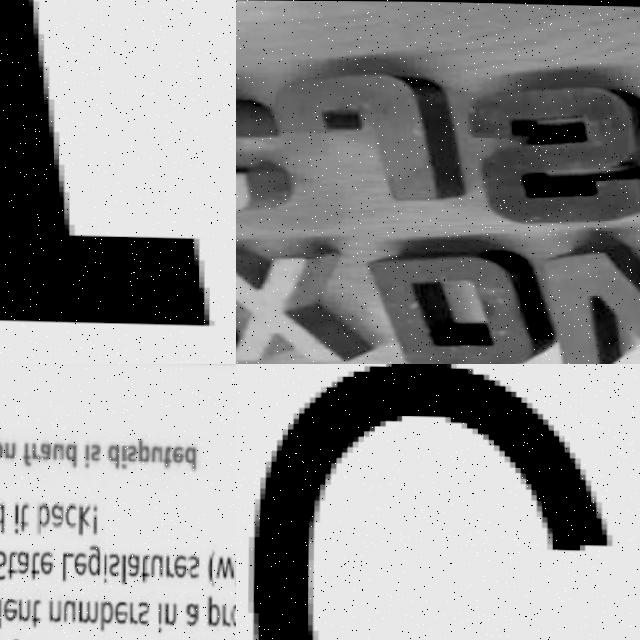A: (48, 502, 63, 529), (183, 601, 197, 628), (125, 550, 139, 577), (14, 546, 28, 573), (37, 439, 51, 461)
B: (97, 598, 113, 632), (34, 501, 49, 533)
C: (251, 364, 610, 640), (62, 501, 76, 528)
D: (369, 236, 560, 364), (181, 442, 195, 470), (104, 442, 119, 467), (63, 441, 77, 466), (0, 498, 3, 534)
E: (171, 550, 185, 577), (37, 547, 51, 574), (1, 595, 16, 620), (112, 598, 127, 622), (72, 551, 86, 575), (170, 443, 184, 465)
F: (21, 441, 29, 466)
G: (84, 542, 100, 578)
I: (82, 443, 89, 470), (155, 601, 160, 631), (12, 499, 16, 533), (102, 551, 106, 583), (120, 442, 123, 469)
J: (259, 62, 474, 203)
K: (76, 503, 91, 535)
L: (58, 549, 73, 580), (120, 552, 124, 582)
M: (77, 597, 97, 622)
N: (46, 596, 60, 622), (162, 599, 176, 624), (15, 598, 29, 622), (2, 441, 15, 459)
O: (228, 601, 236, 624)
P: (204, 594, 220, 624), (135, 437, 150, 463)
R: (221, 601, 230, 625), (165, 552, 173, 579), (128, 599, 136, 621), (29, 441, 37, 459)
S: (455, 76, 640, 226), (184, 553, 198, 577), (107, 550, 119, 577), (124, 441, 137, 461), (137, 598, 147, 623), (0, 547, 5, 581), (89, 442, 97, 462)
T: (0, 0, 221, 334), (27, 549, 40, 579), (29, 597, 41, 627), (17, 501, 28, 533), (140, 552, 149, 583), (6, 549, 15, 579), (161, 442, 170, 469)
U: (148, 550, 162, 577), (62, 595, 74, 620), (149, 442, 161, 462), (50, 442, 63, 460)
V: (520, 235, 640, 364)
W: (213, 552, 233, 580)
X: (236, 232, 364, 364)
